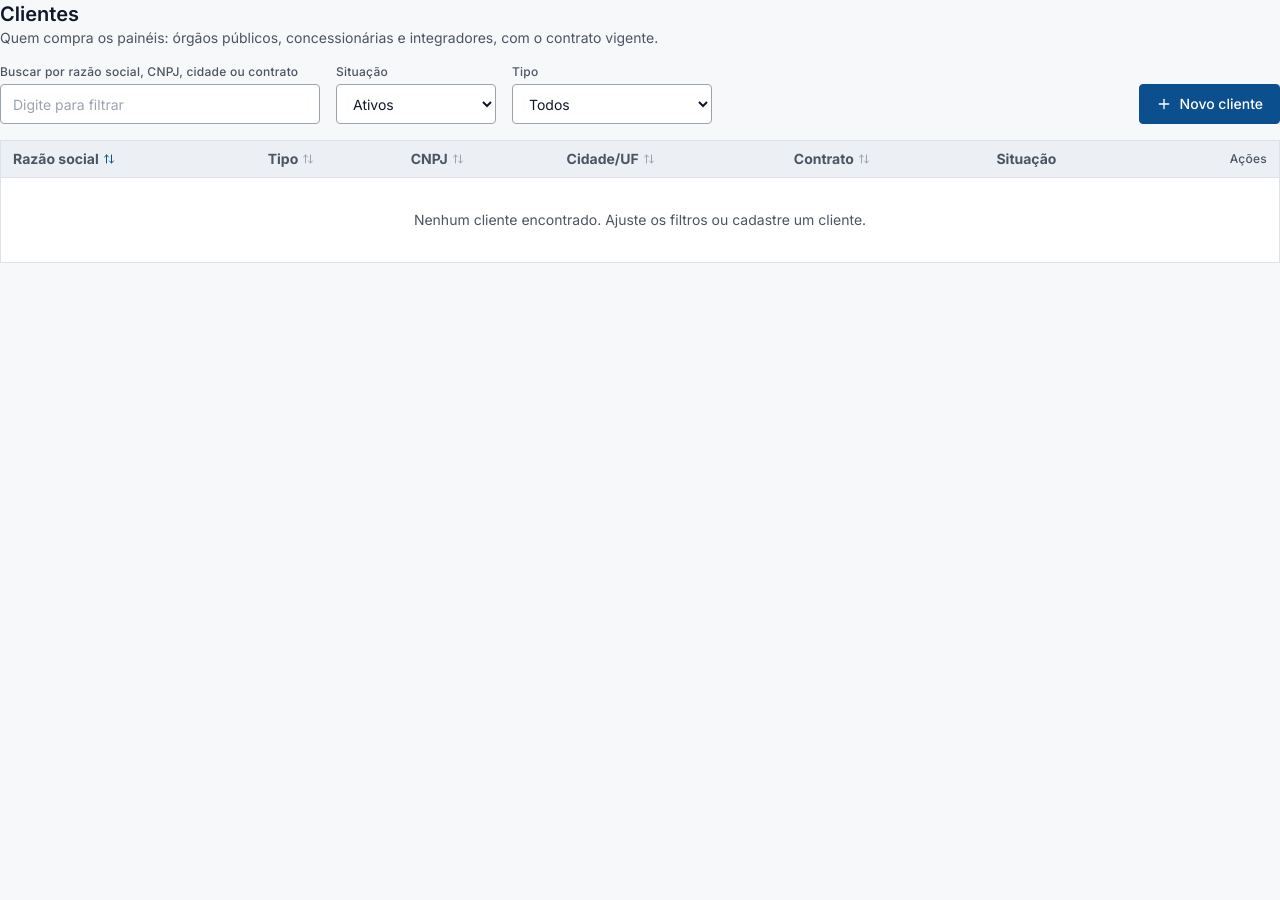
Test: Clientes › conflito 409 de CNPJ mostra alerta e mantem o modal aberto
Expected: the text "Nenhum cliente encontrado" is shown, [414,211,866,228]
Click the button "Novo cliente" at (1209, 104), box [1139,84,1279,124]
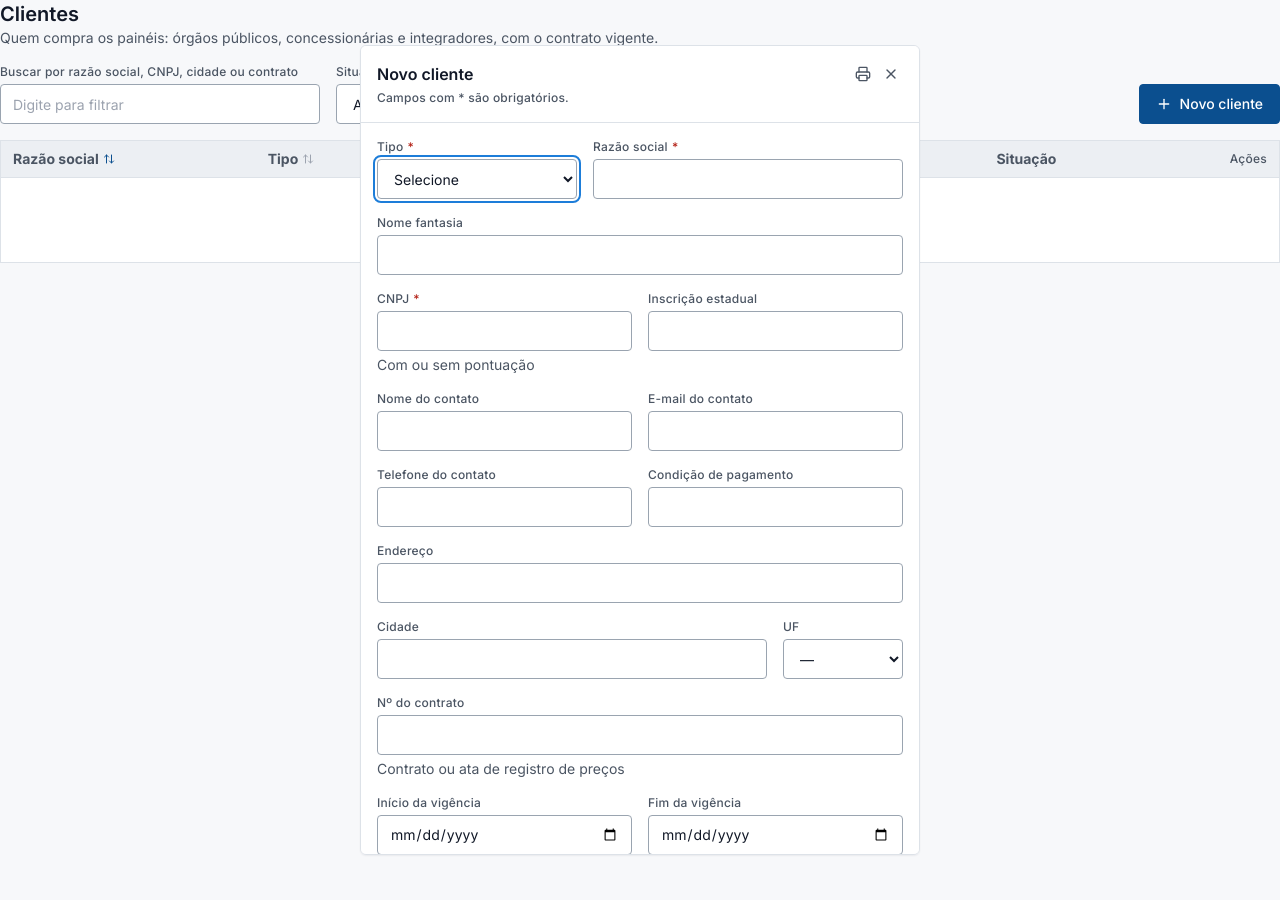
Select "Integrador" in the dropdown labelled "Tipo*" at (477, 179), box [377,159,577,199]
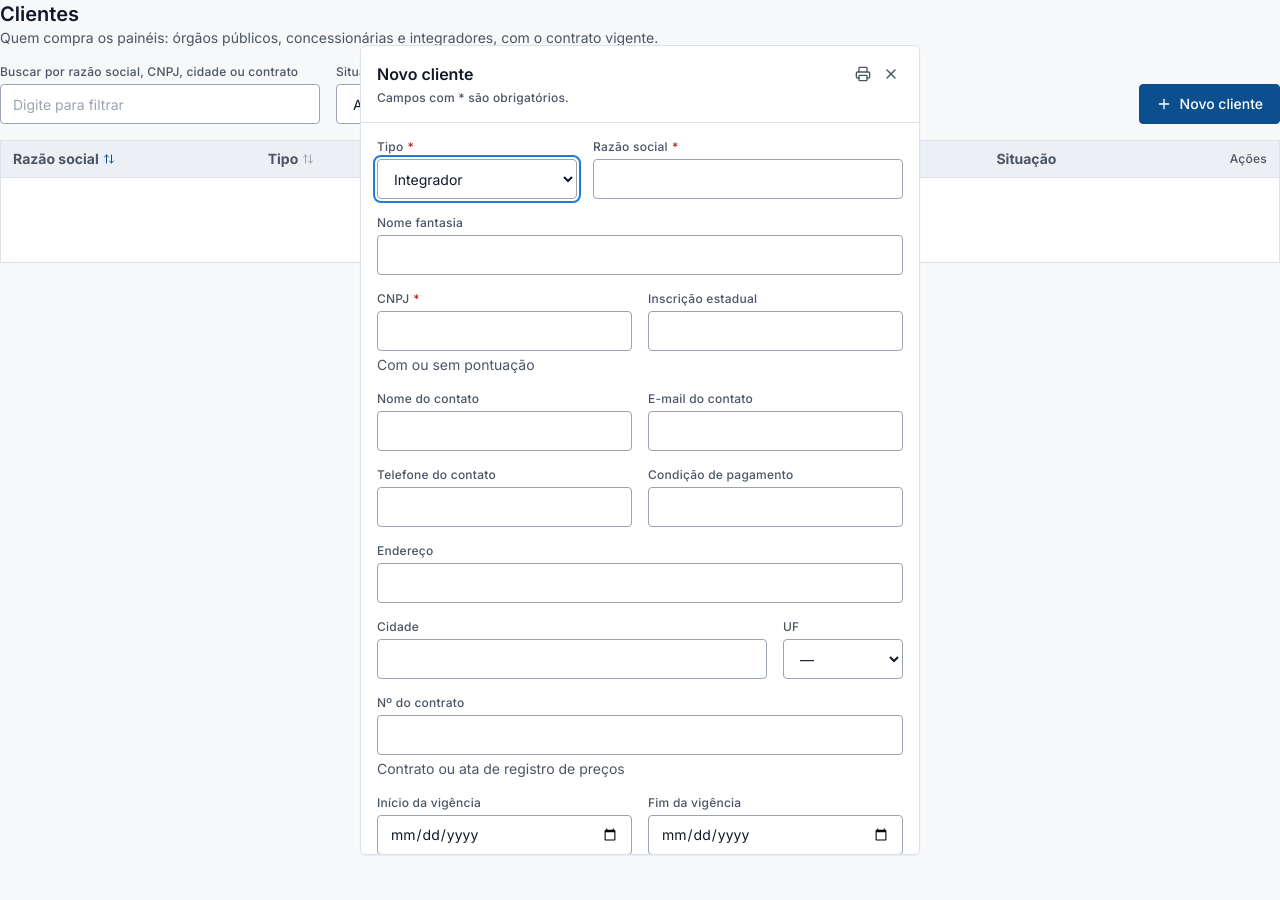
Type "Integradora LTDA" into the field labelled "Razão social*" at (748, 179), box [593,159,903,199]
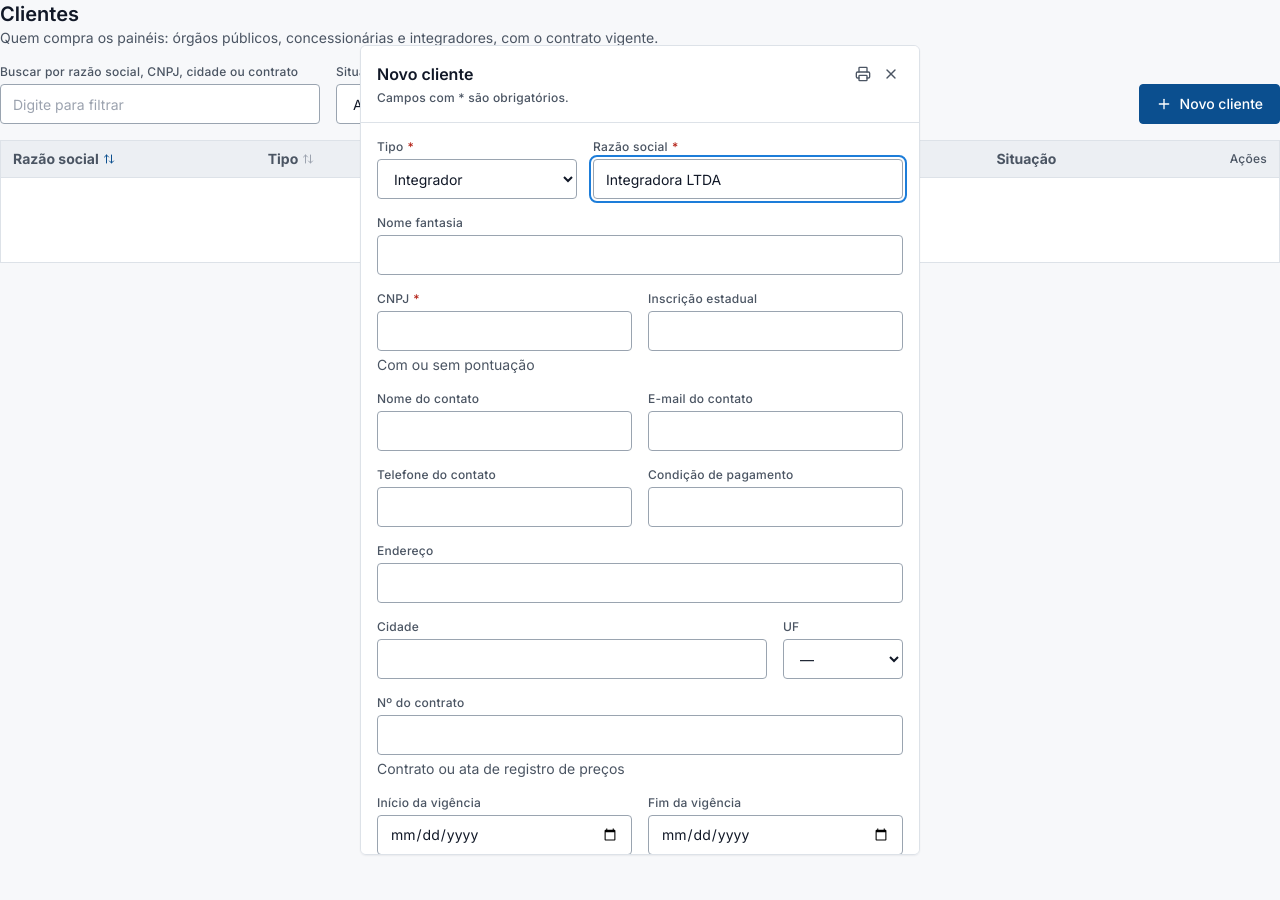
Type "11222333000181" into the field labelled "CNPJ*" at (504, 331), box [377,311,632,351]
(page scrolled)
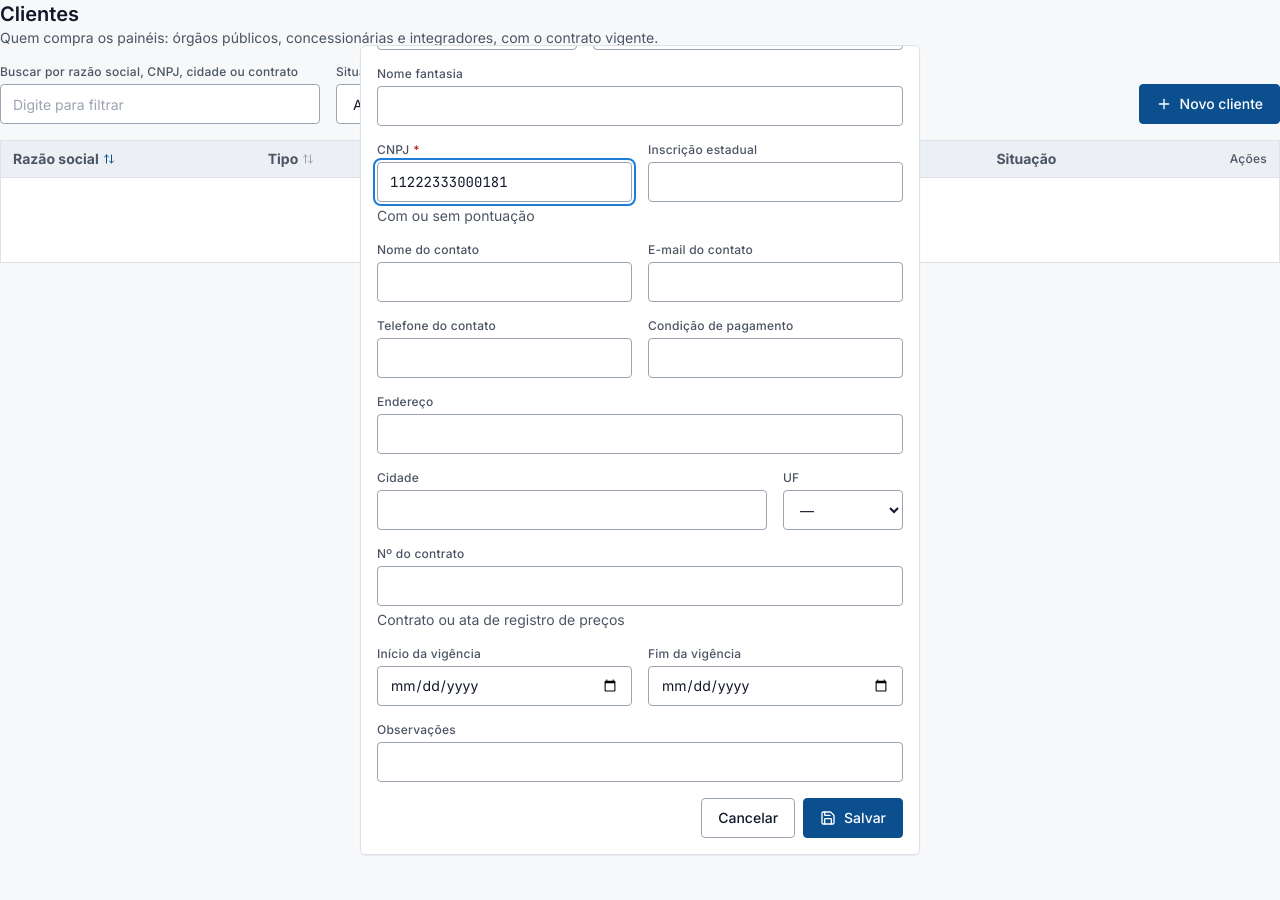
Click the button "Salvar" at (853, 818), box [803,798,903,838]
(page scrolled)
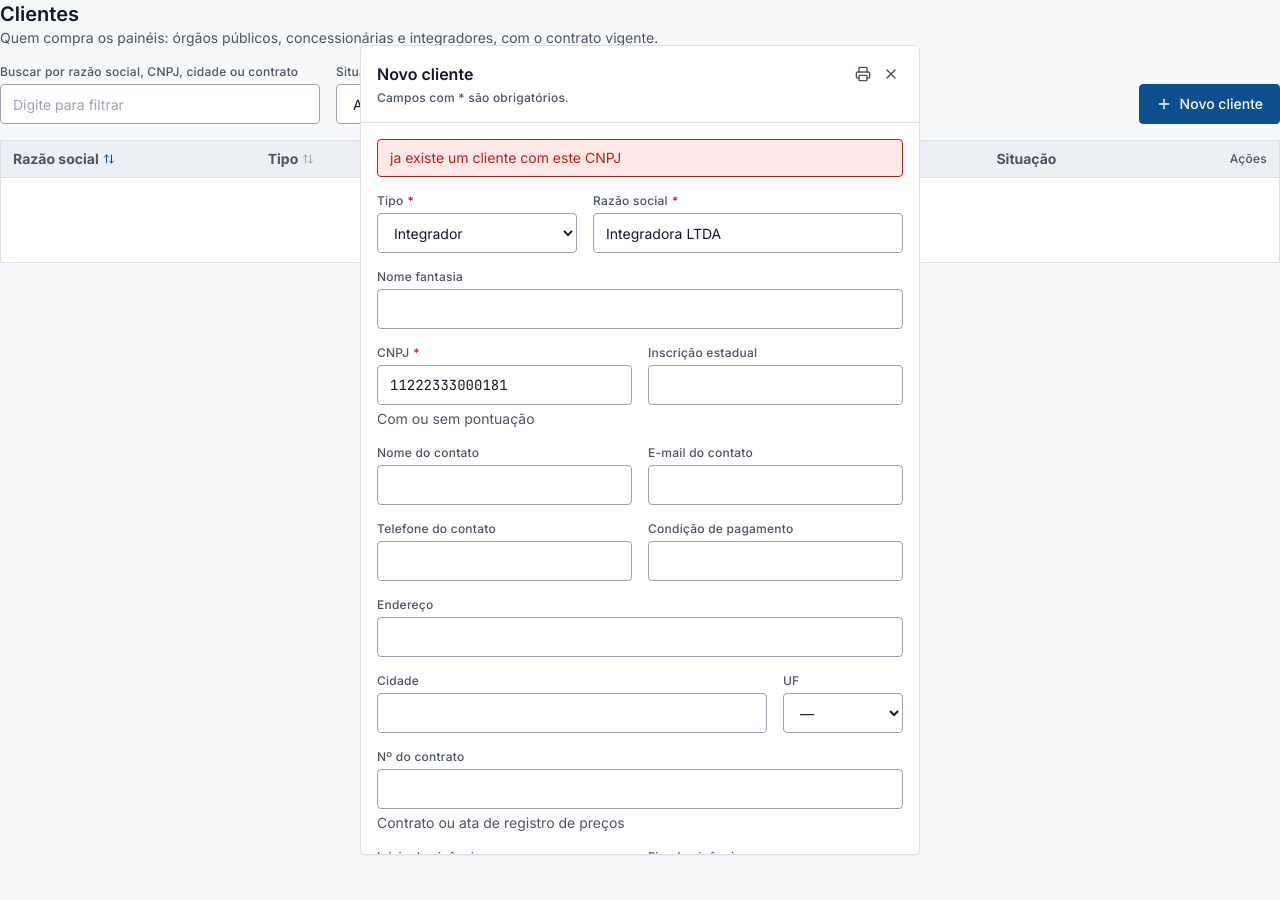
Expected: the message reads "ja existe um cliente com este CNPJ", [390,149,621,166]
